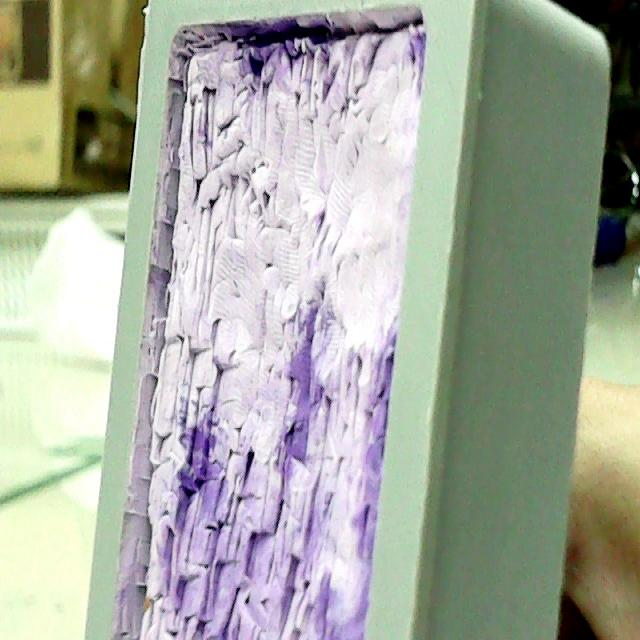block: (84, 1, 610, 638)
